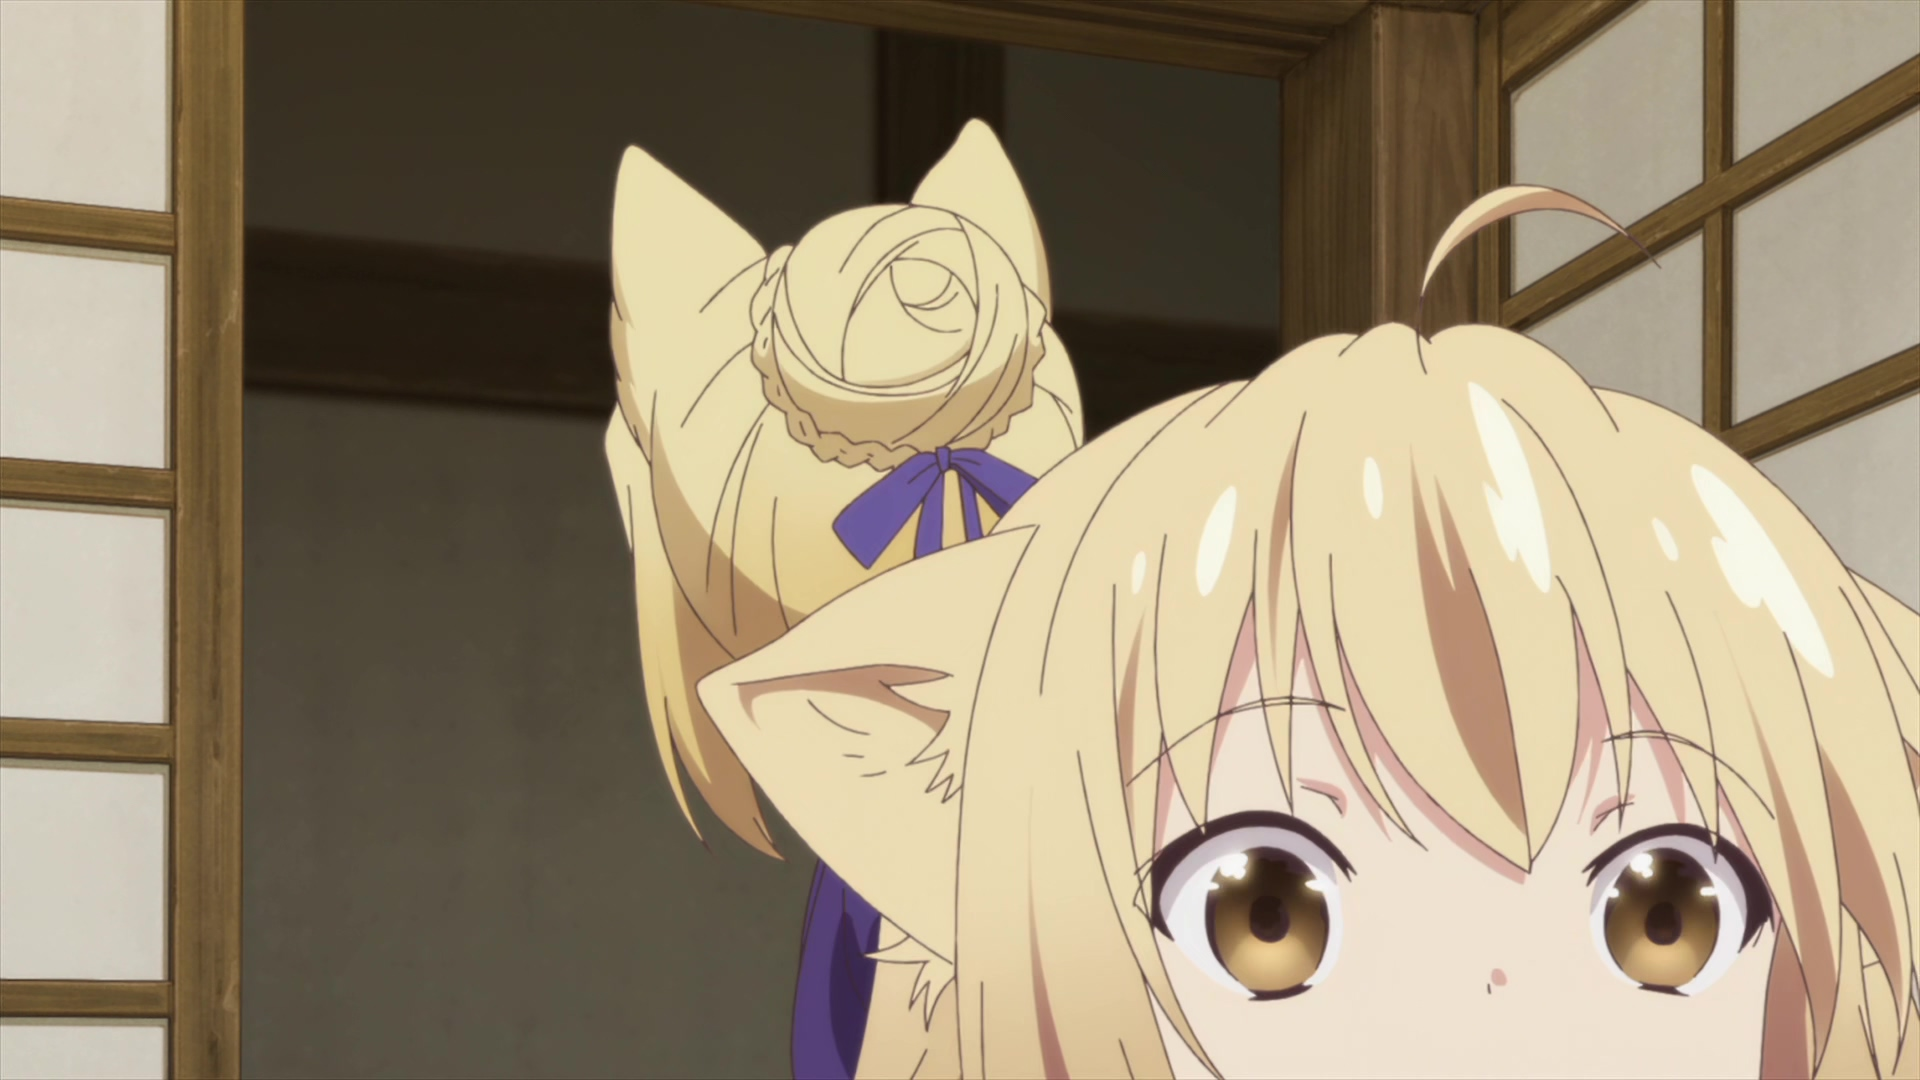柚: (696, 183, 1920, 1080)
桐: (604, 116, 1083, 1080)
